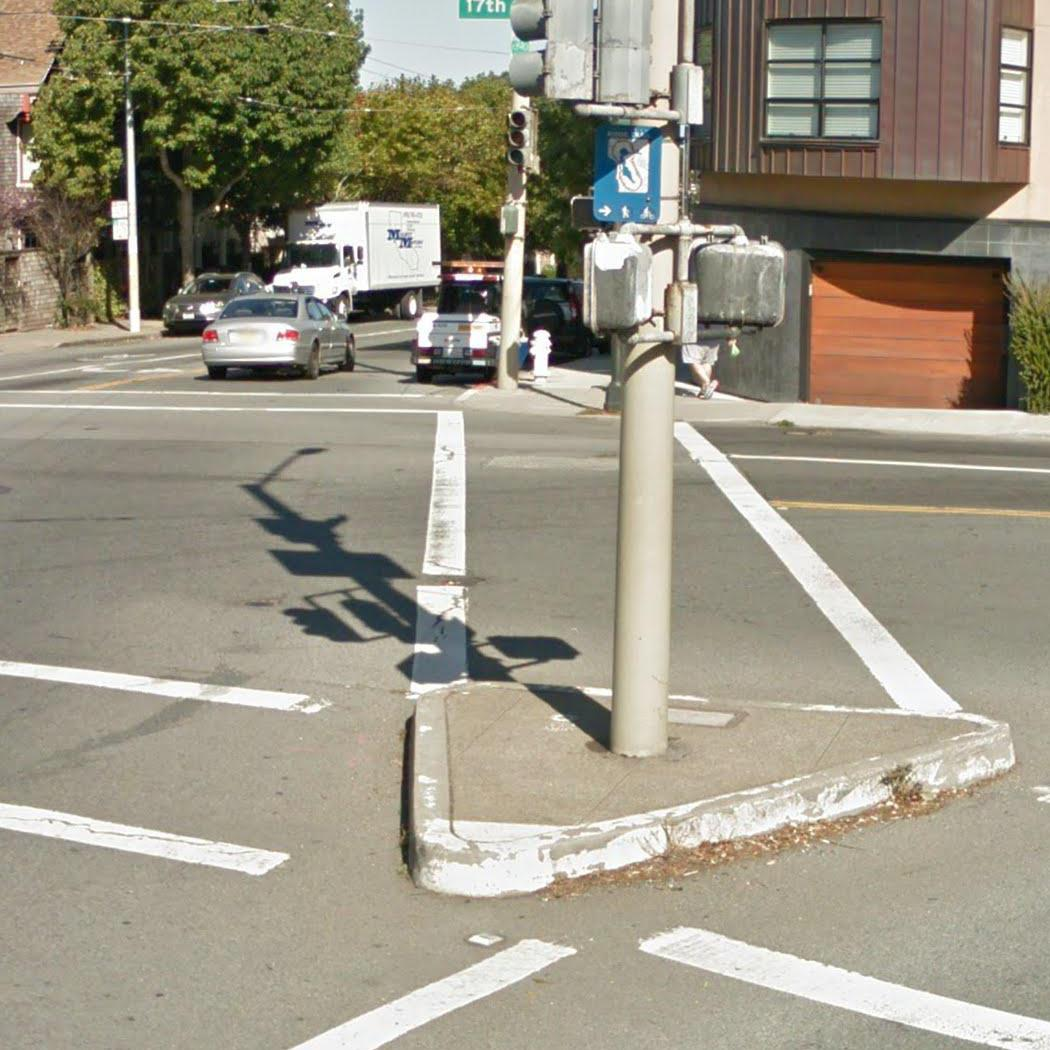2 Hour Parking: (111, 220, 131, 242)
No Parking: (109, 199, 130, 218)
